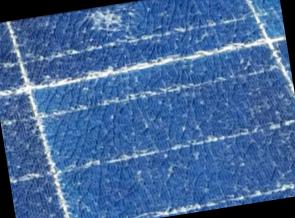Crack: (72, 1, 144, 45)
